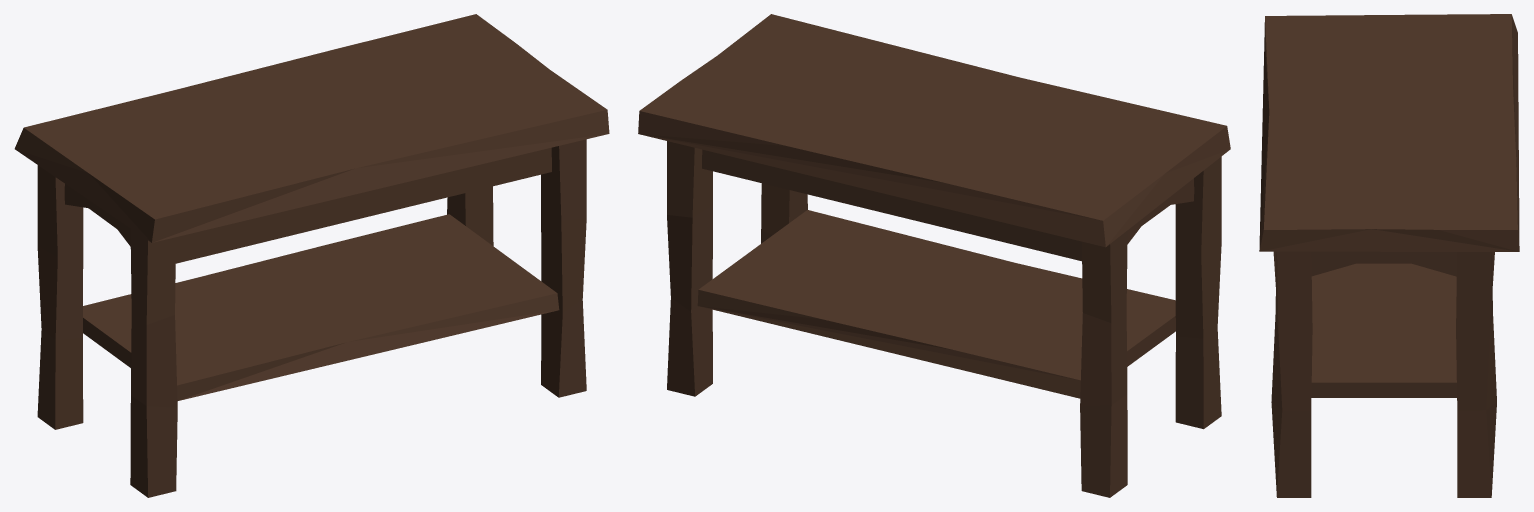
The model's file is Стол кухонный.fbx.
The picture shows the model from 3 angles, left to right: view 1: azimuth 30°, elevation 25°; view 2: azimuth 150°, elevation 25°; view 3: azimuth 270°, elevation 25°; orthographic projection. The views are drawn at different scales.
Parts seen in each view (by area): view 1: Cube; view 2: Cube; view 3: Cube.
Boxes of the visible parts, <box> form: Cube: <box>14,14,609,497</box>; Cube: <box>638,14,1230,497</box>; Cube: <box>1259,14,1519,497</box>.
Size of the model in its own units: 406 by 237 by 204.
